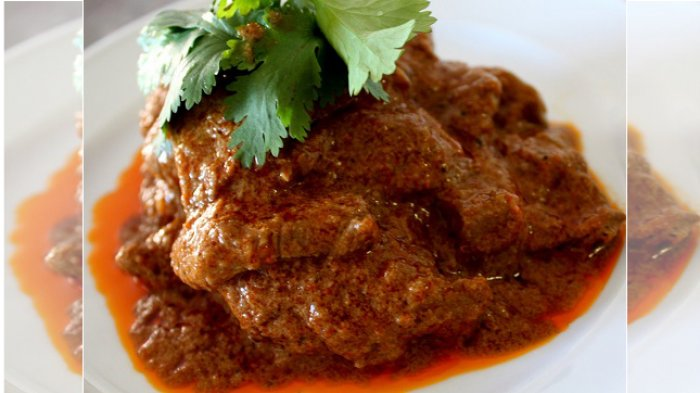rendang: (100, 9, 625, 385)
